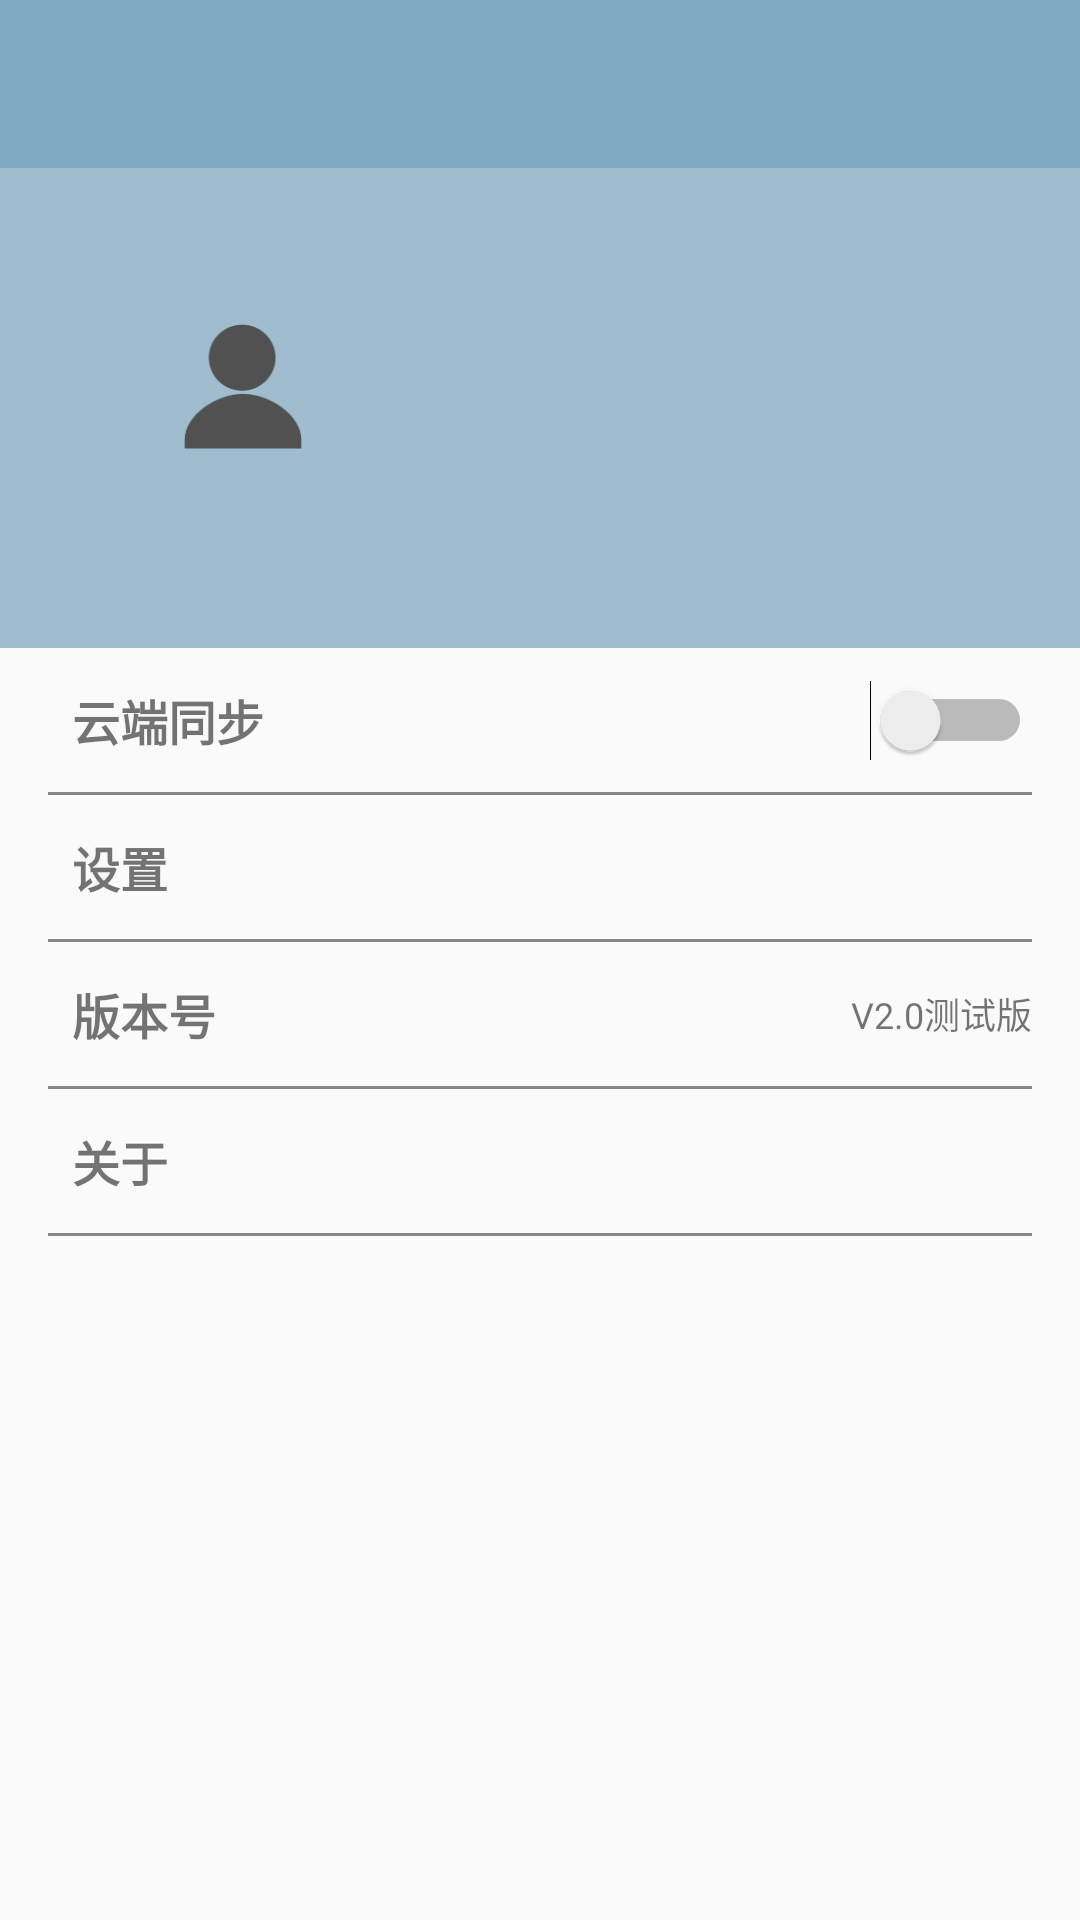

Locate icon controls on the screen. Image size 1080x1920, boxes as [x1,y1,x2,y2].
usernoimg: [184,324,302,449]
